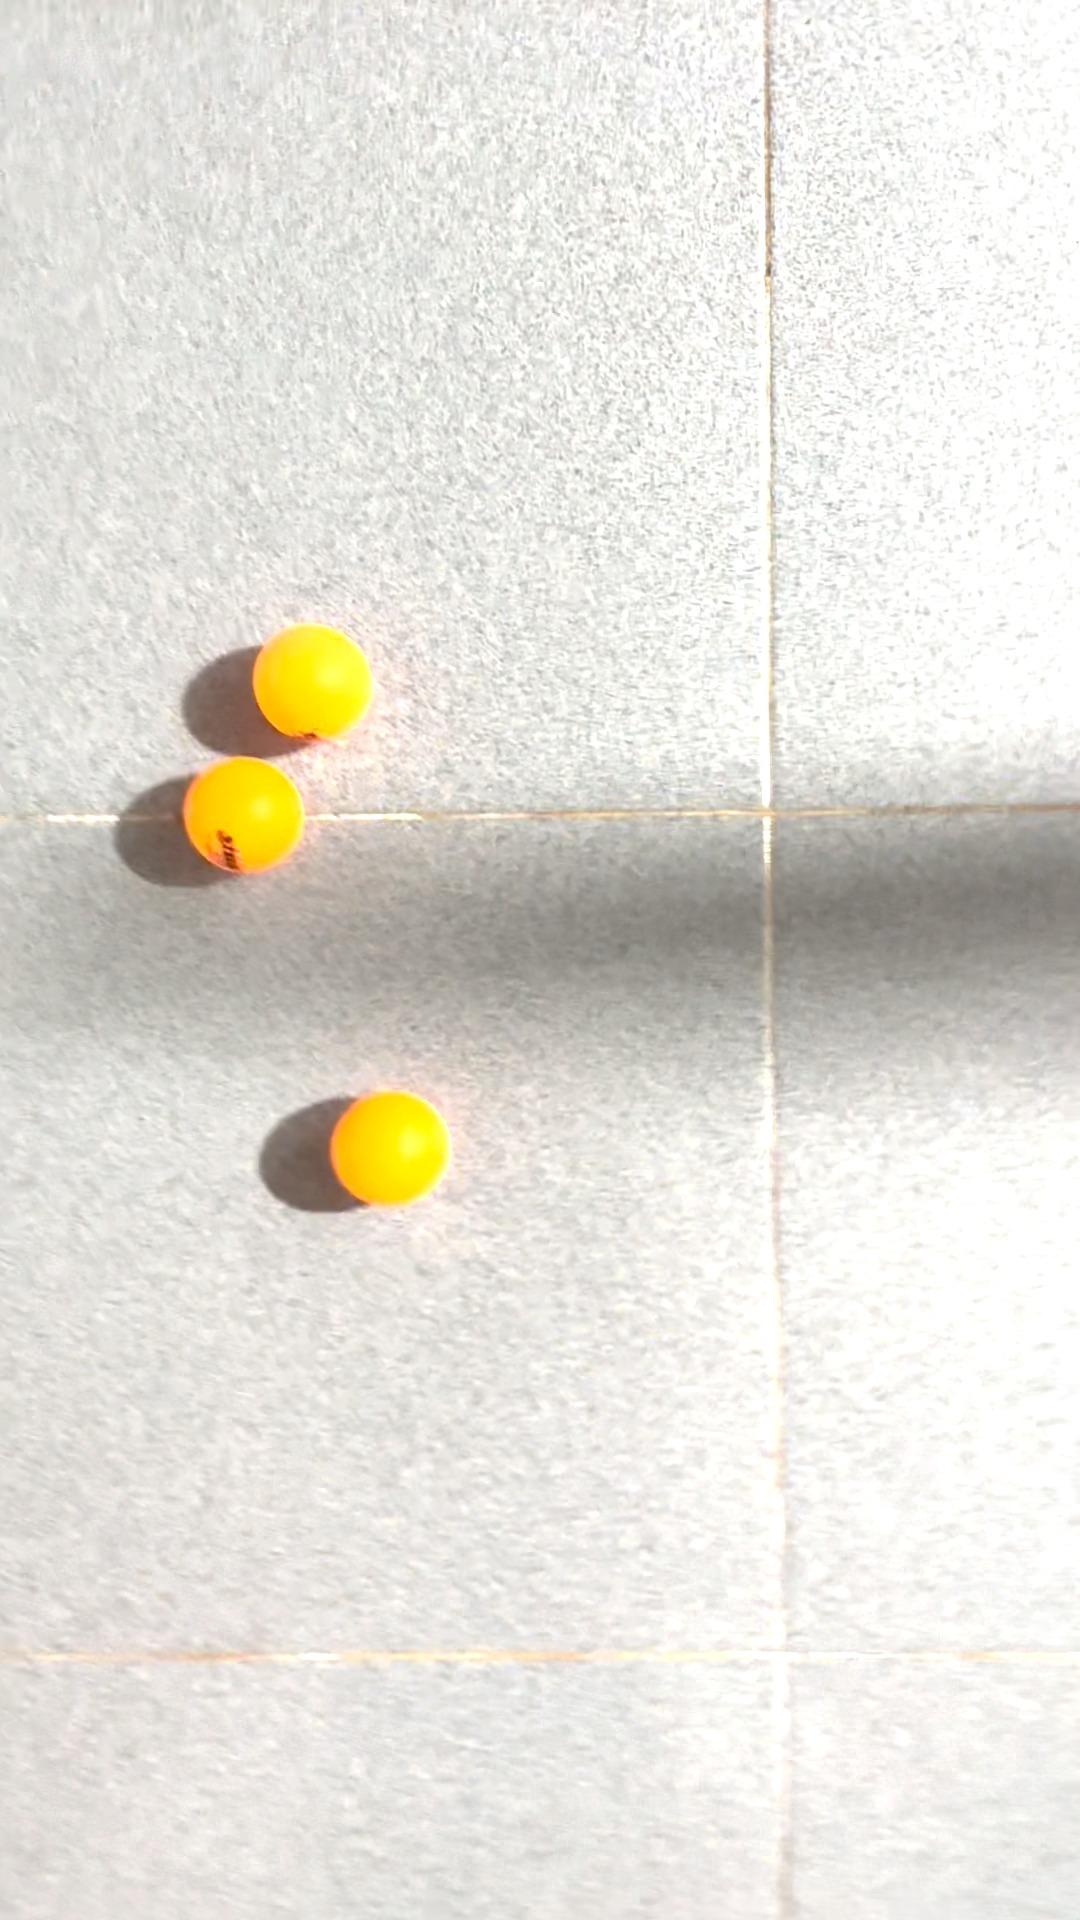oball: (167, 737, 315, 889), (314, 1091, 462, 1221), (248, 611, 380, 753)
